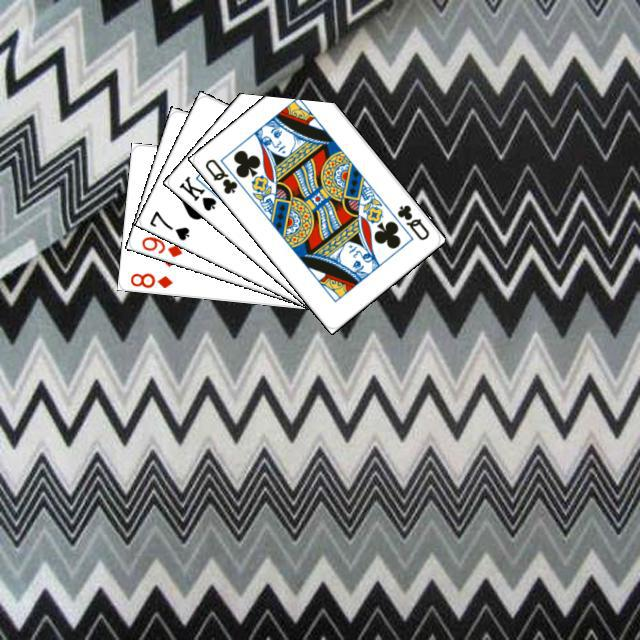7s: (144, 206, 191, 242)
8d: (126, 268, 174, 290)
9d: (136, 231, 184, 259)
Ks: (174, 171, 218, 213)
Qc: (200, 153, 247, 196), (392, 200, 431, 242)
